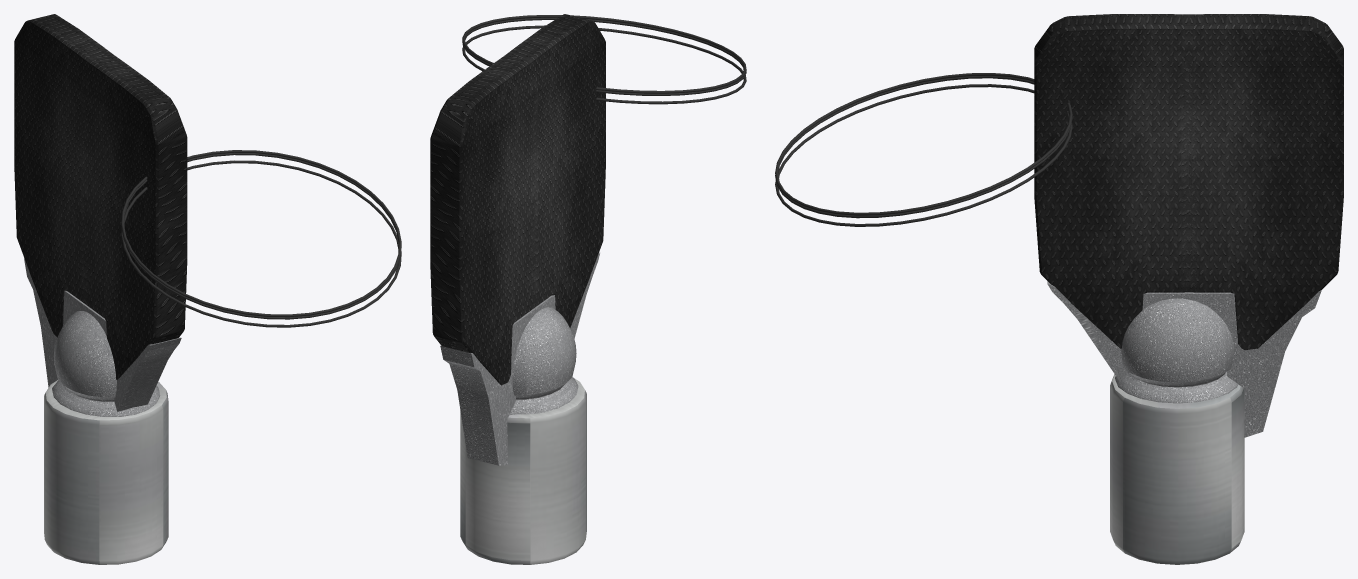
The model's file is LaptopKey.fbx.
3 renders of one model, left to right at view 1: azimuth 30°, elevation 25°; view 2: azimuth 150°, elevation 25°; view 3: azimuth 270°, elevation 25°, orthographic. The views are drawn at different scales.
Parts seen in each view (by area): view 1: polySurface1, polySurface4, polySurface2, polySurface3, pTorus4, pTorus1; view 2: polySurface1, polySurface4, polySurface3, polySurface2, pTorus4, pTorus1; view 3: polySurface1, polySurface4, polySurface2, polySurface3, pTorus4, pTorus1.
Boxes of the visible parts, <box> form: polySurface1: <box>14,14,187,379</box>; polySurface4: <box>44,380,168,564</box>; polySurface2: <box>52,311,160,416</box>; polySurface3: <box>24,258,181,411</box>; pTorus4: <box>121,150,401,319</box>; pTorus1: <box>121,160,401,327</box>; polySurface1: <box>430,14,605,385</box>; polySurface4: <box>460,378,586,564</box>; polySurface3: <box>440,252,599,465</box>; polySurface2: <box>509,307,578,415</box>; pTorus4: <box>462,15,746,95</box>; pTorus1: <box>462,25,746,104</box>; polySurface1: <box>1034,14,1343,349</box>; polySurface4: <box>1110,374,1244,564</box>; polySurface2: <box>1115,298,1237,403</box>; polySurface3: <box>1047,281,1321,437</box>; pTorus4: <box>775,73,1072,218</box>; pTorus1: <box>775,84,1072,226</box>.
Bounding box in the file's own units: 2 × 3.76 × 3.73.
Materials: 4 (3 with a texture image).
